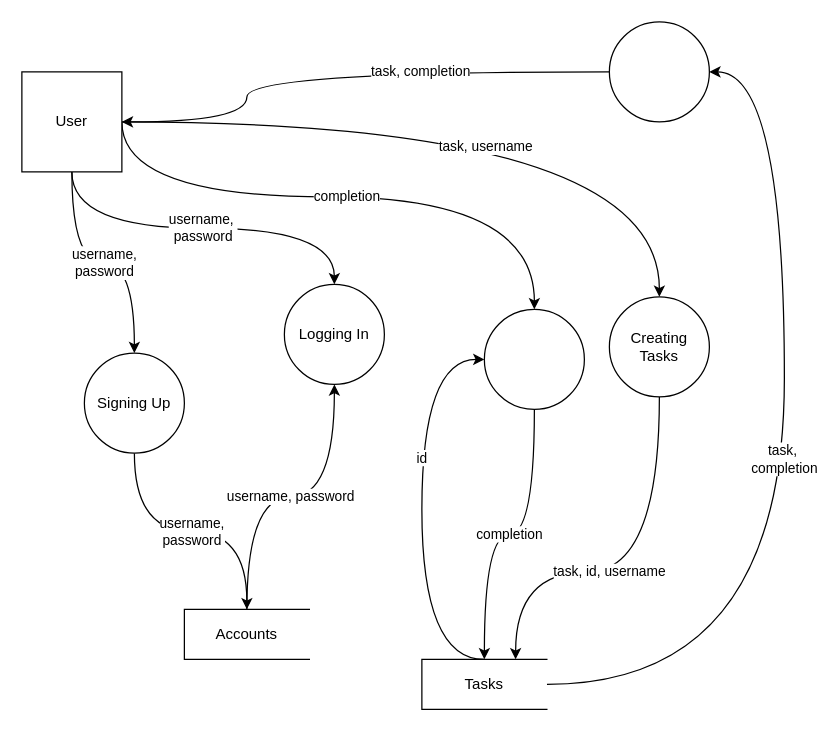
Some shapes in this 839 by 731 pixel diagram are drawn without their labels. Each missing label, with the centre of its shape:
Displaying Tasks: (658,71)
Toggling Task Completion: (533,358)
